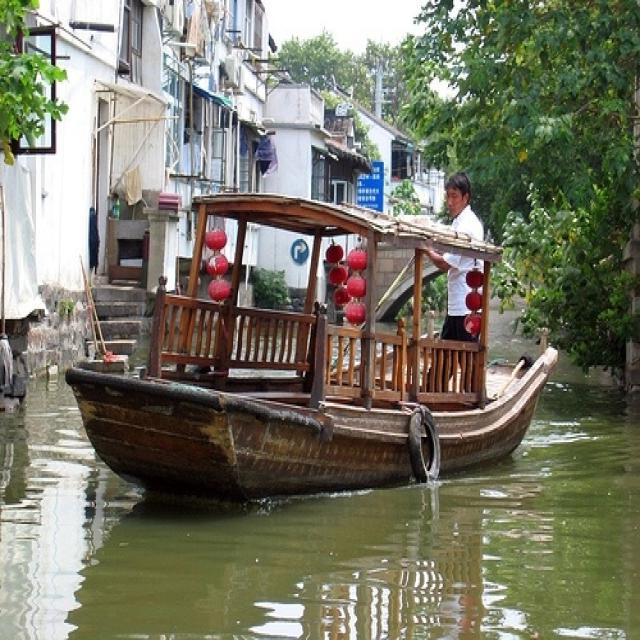boat: (71, 337, 568, 512)
